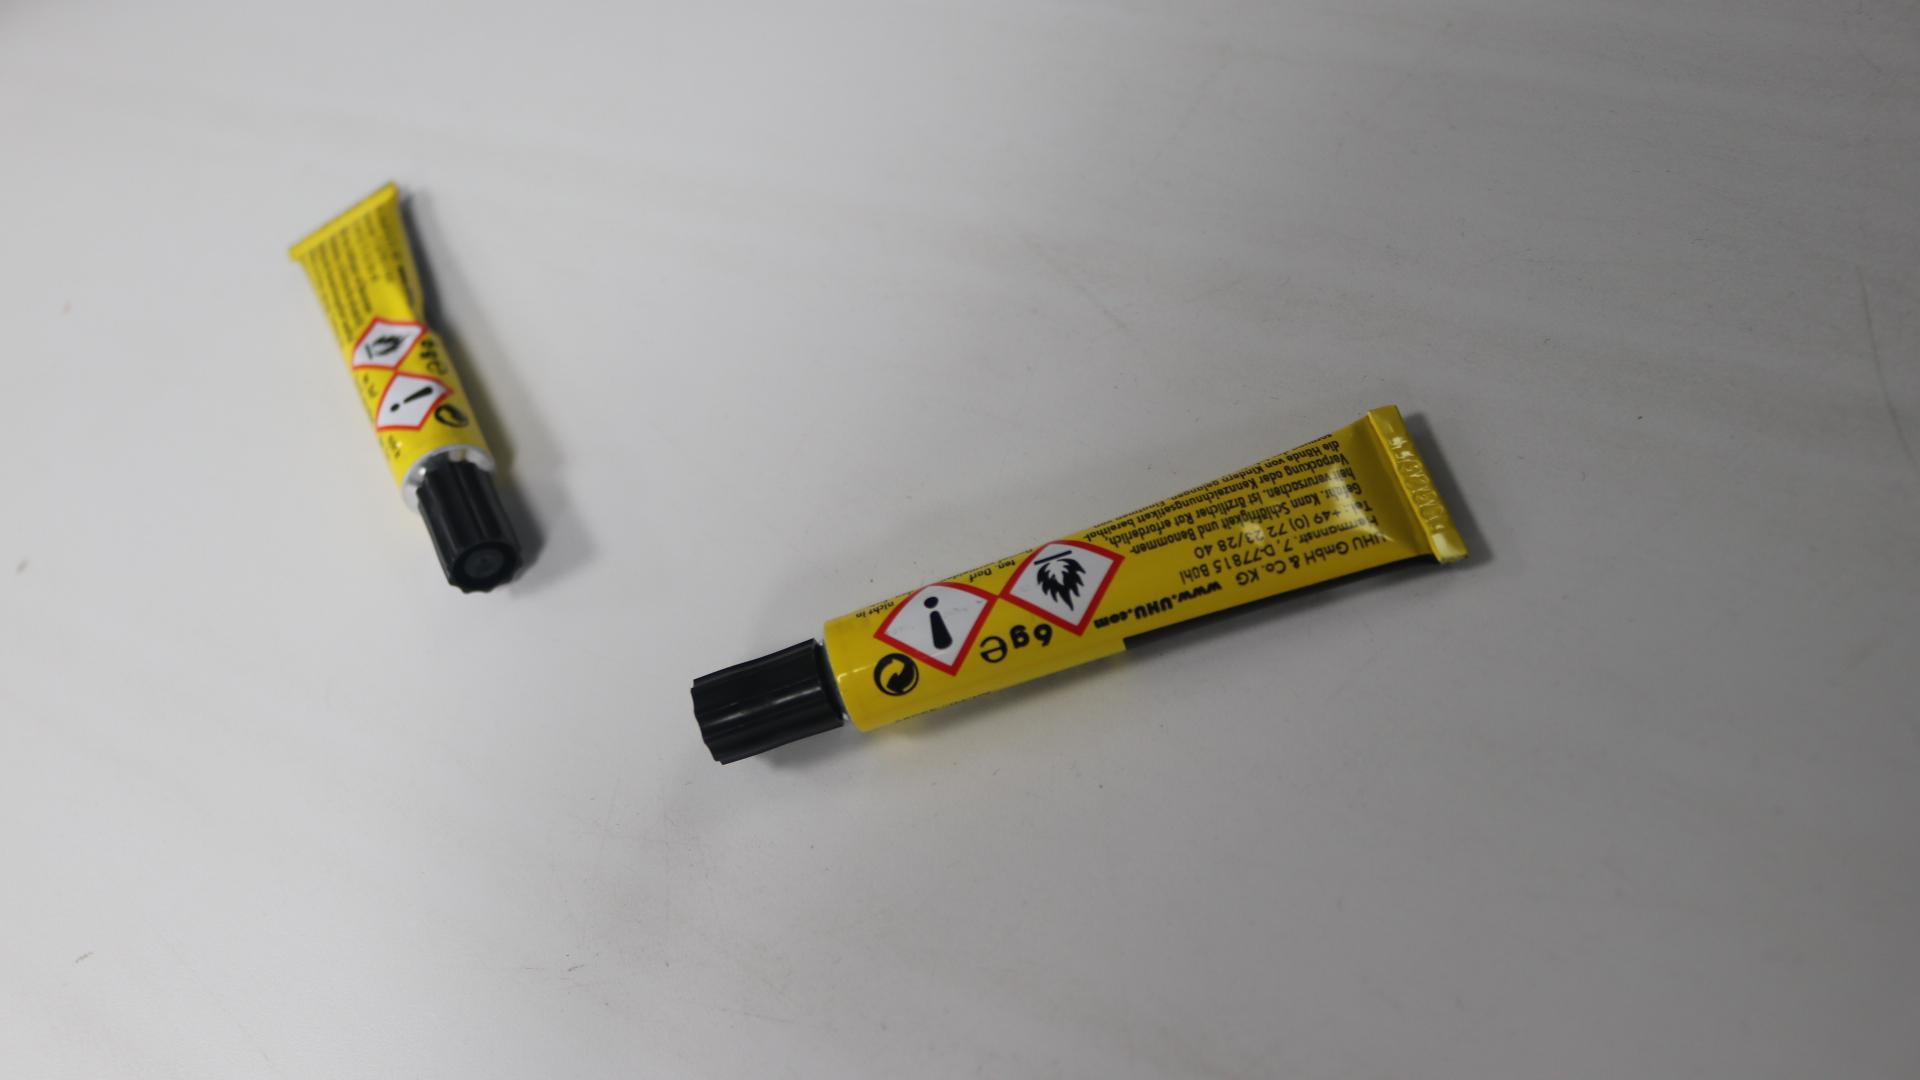Head: (751, 698, 769, 714), (449, 508, 464, 522)
Tail: (1403, 469, 1426, 492), (332, 220, 344, 230)
Tube: (691, 408, 1473, 769), (289, 180, 527, 593)
